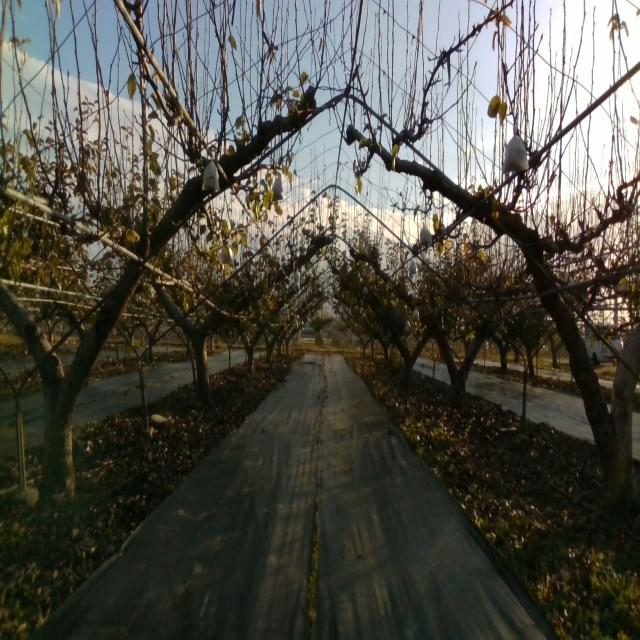pearbags: (501, 126, 529, 176), (201, 152, 220, 192), (220, 243, 235, 266), (272, 178, 284, 202), (419, 223, 432, 245)
